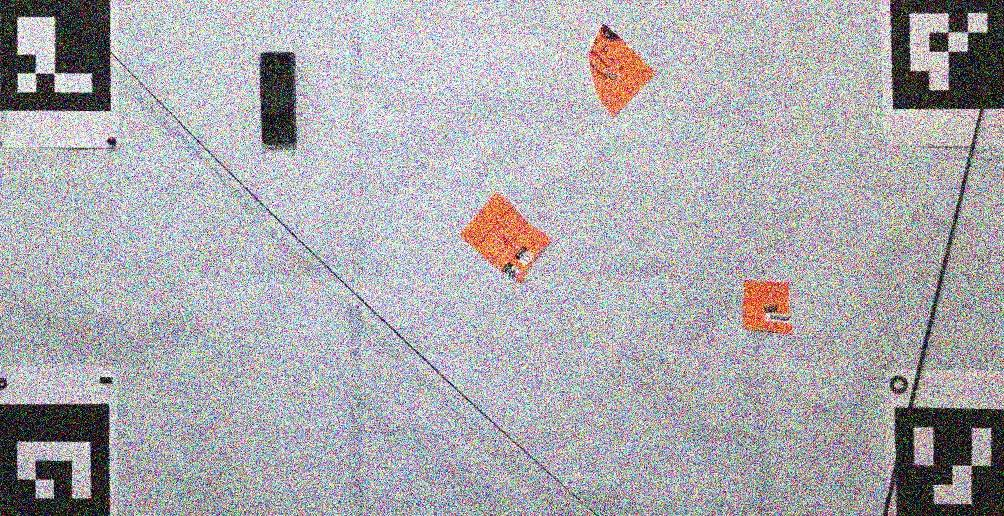obstacle: (459, 191, 551, 284), (590, 23, 657, 116), (260, 52, 298, 147), (742, 278, 794, 335)
